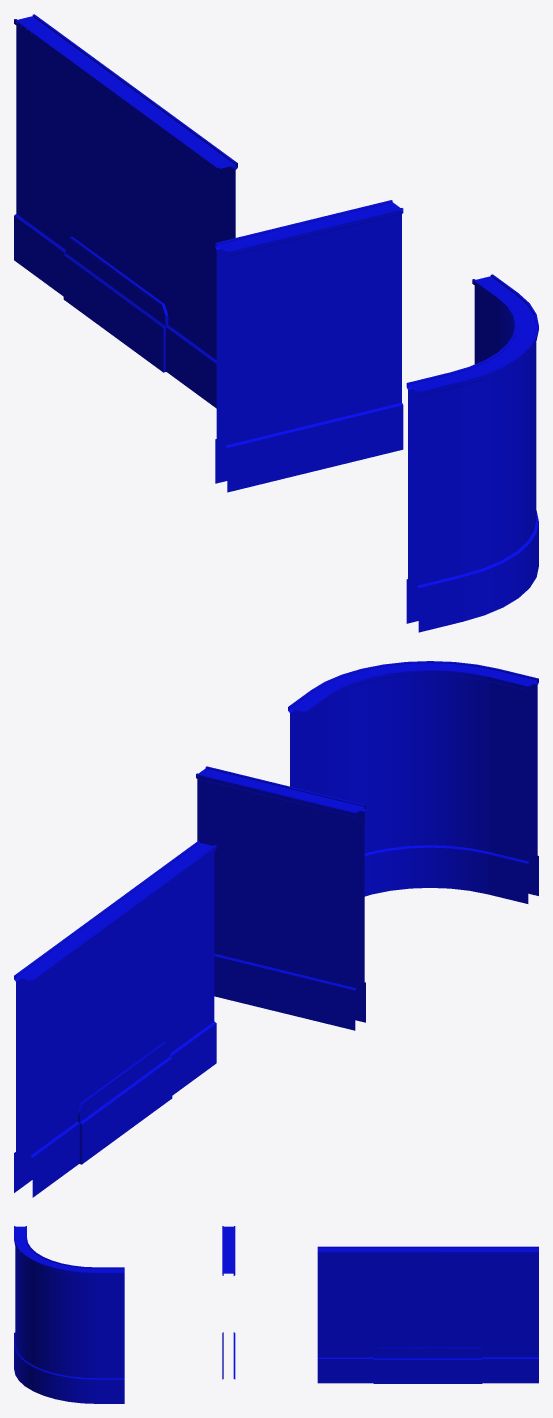
Rendered from Walls_1_Combi_Low.FBX.
3 views of the same model, one above another, from view 1: azimuth 30°, elevation 25°; view 2: azimuth 150°, elevation 25°; view 3: azimuth 270°, elevation 25° (orthographic). The views are drawn at different scales.
Visible parts, largest first — view 1: Wall_Standard, Wall_Mini, Wall_Corner; view 2: Wall_Corner, Wall_Standard, Wall_Mini; view 3: Wall_Standard, Wall_Corner, Wall_Mini.
Part boxes in pixels (<box>): Wall_Standard: <box>14,14,237,408</box>; Wall_Mini: <box>215,200,403,492</box>; Wall_Corner: <box>406,274,538,632</box>; Wall_Corner: <box>288,661,538,903</box>; Wall_Standard: <box>14,841,216,1197</box>; Wall_Mini: <box>196,766,365,1030</box>; Wall_Standard: <box>317,1246,538,1383</box>; Wall_Corner: <box>14,1226,124,1403</box>; Wall_Mini: <box>222,1226,235,1379</box>.
Size of the model in its own units: 98.44 by 129 by 467.
